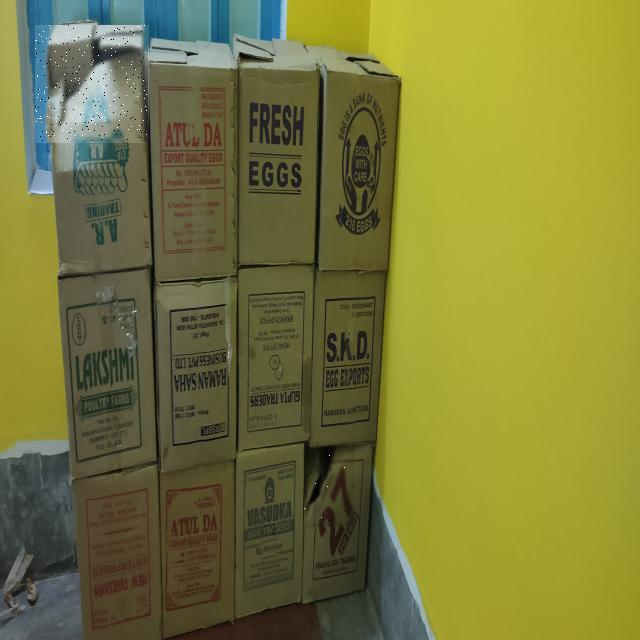squeeze: (35, 26, 147, 142), (304, 442, 354, 527)
